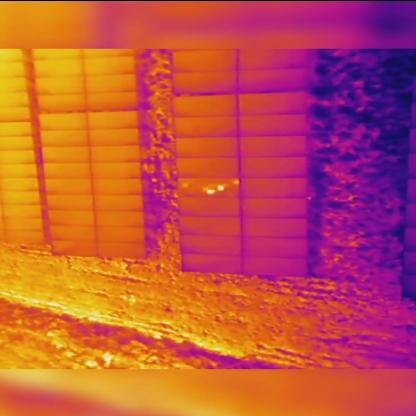panel: (236, 111, 311, 138), (168, 92, 241, 117), (235, 90, 311, 114), (240, 253, 312, 278), (238, 153, 310, 178), (236, 134, 310, 158), (172, 114, 241, 139), (175, 173, 241, 199), (240, 233, 311, 257), (239, 175, 310, 199), (240, 215, 310, 239), (177, 193, 243, 218), (239, 195, 310, 218), (176, 214, 244, 238), (175, 155, 242, 179), (179, 231, 243, 256), (174, 135, 242, 158), (181, 250, 243, 275)
